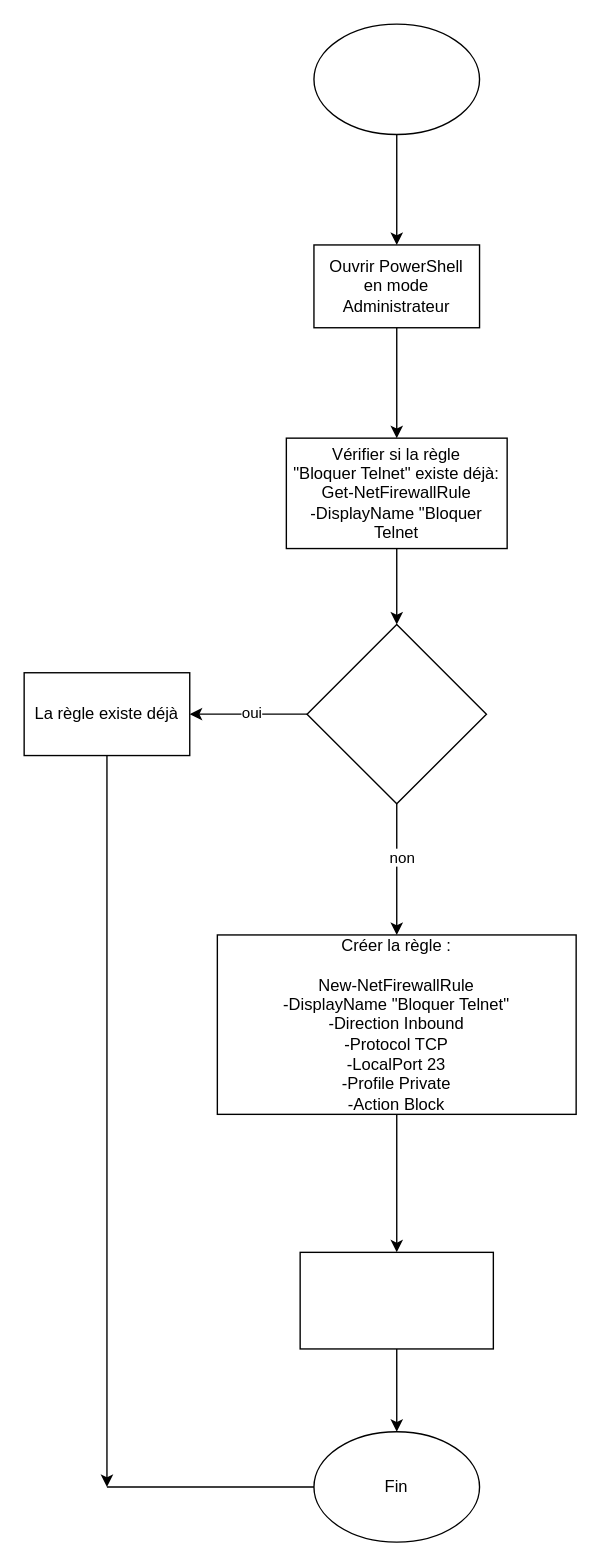
Image size: 600x1566. Some labels were removed from this diagram. The centre of each missing label's shape, as x and y in pixels:
Début: point (396, 79)
La règle existe ?: point (396, 713)
Vérifier la création: Get-NetFirewallRule -DisplayName "Bloquer Telnet: point (396, 1300)
